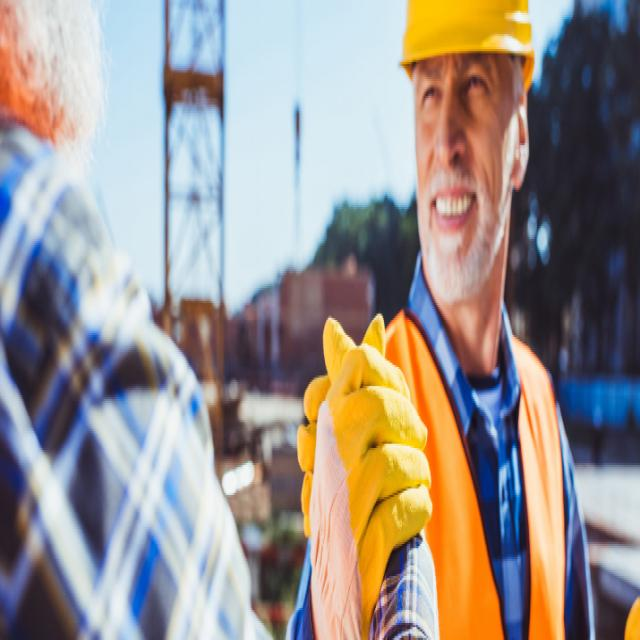Reflective-Jacket: (364, 290, 568, 640)
Safety-Helmet: (393, 0, 537, 85)
